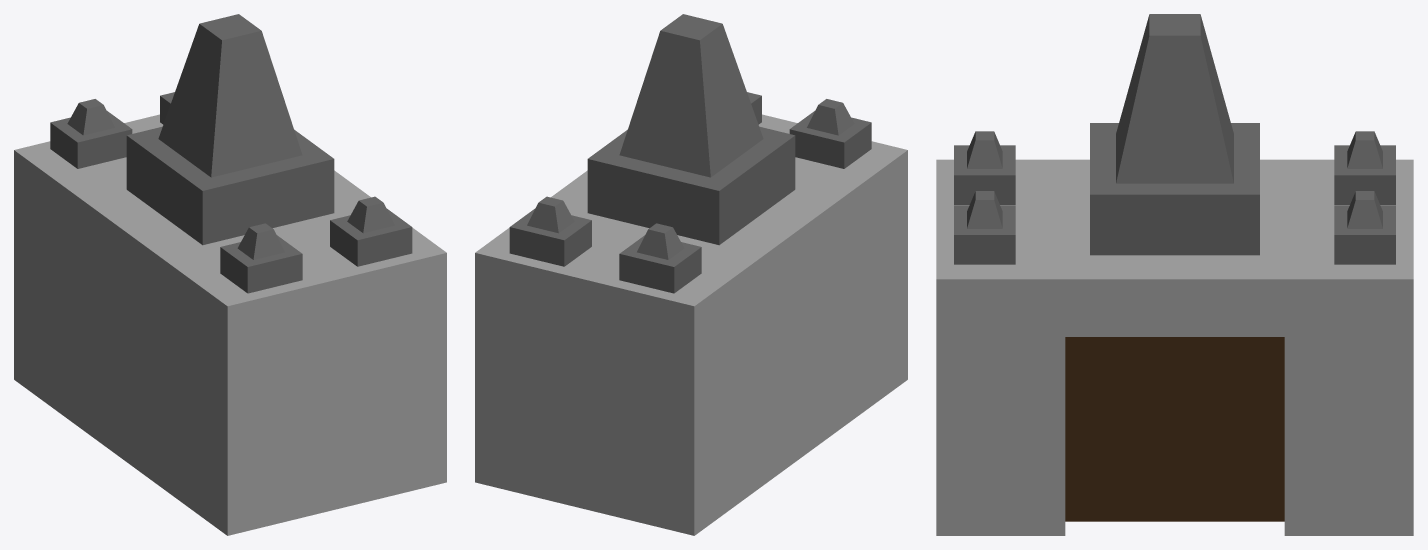
The model's file is tower.fbx.
3 renders of one model, left to right at view 1: azimuth 30°, elevation 25°; view 2: azimuth 150°, elevation 25°; view 3: azimuth 270°, elevation 25°, orthographic. The views are drawn at different scales.
Parts seen in each view (by area): view 1: polySurface2; view 2: polySurface2; view 3: polySurface2.
Boxes of the visible parts, x1=… form: polySurface2: x1=14, y1=14, x2=446, y2=535; polySurface2: x1=475, y1=14, x2=907, y2=535; polySurface2: x1=936, y1=14, x2=1413, y2=535.
Size of the model in its own units: 1 by 1.76 by 1.69.
